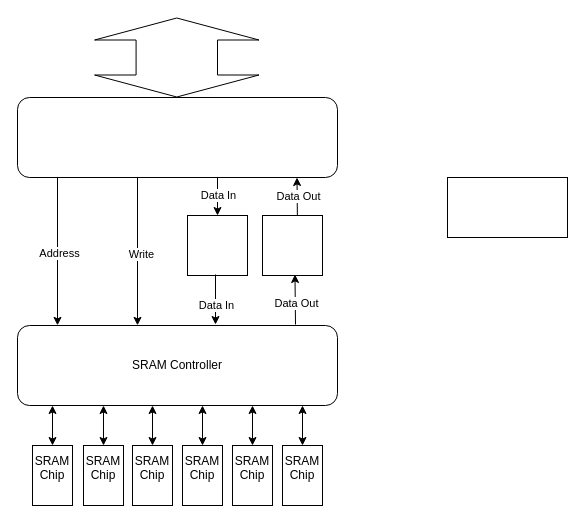
This 585x523 diagram has some shape labels left out. Here are the shapes that lost their labels. From the top down, the centre of each, then its label:
At (177,137): "AHB Slave".
At (507,207): "Tri-State Buffer".
At (217,245): "Hamming Encoder".
At (292,245): "Hamming Decoder".
